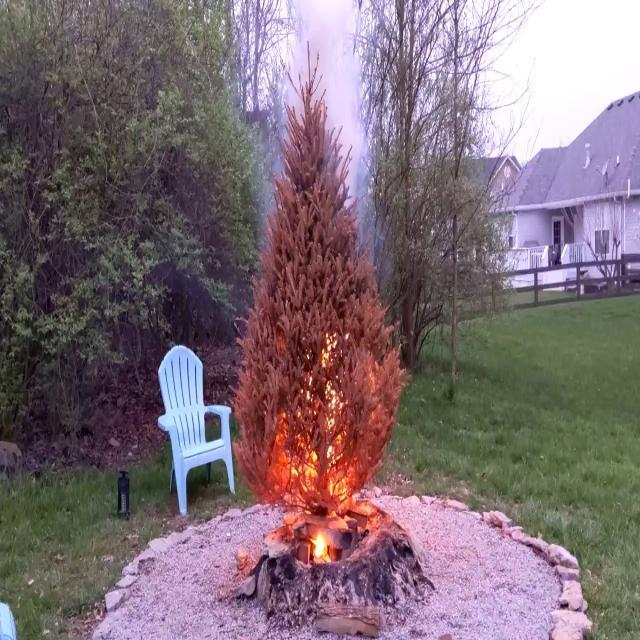Fire: (247, 320, 407, 548)
Smoke: (252, 0, 364, 155)
